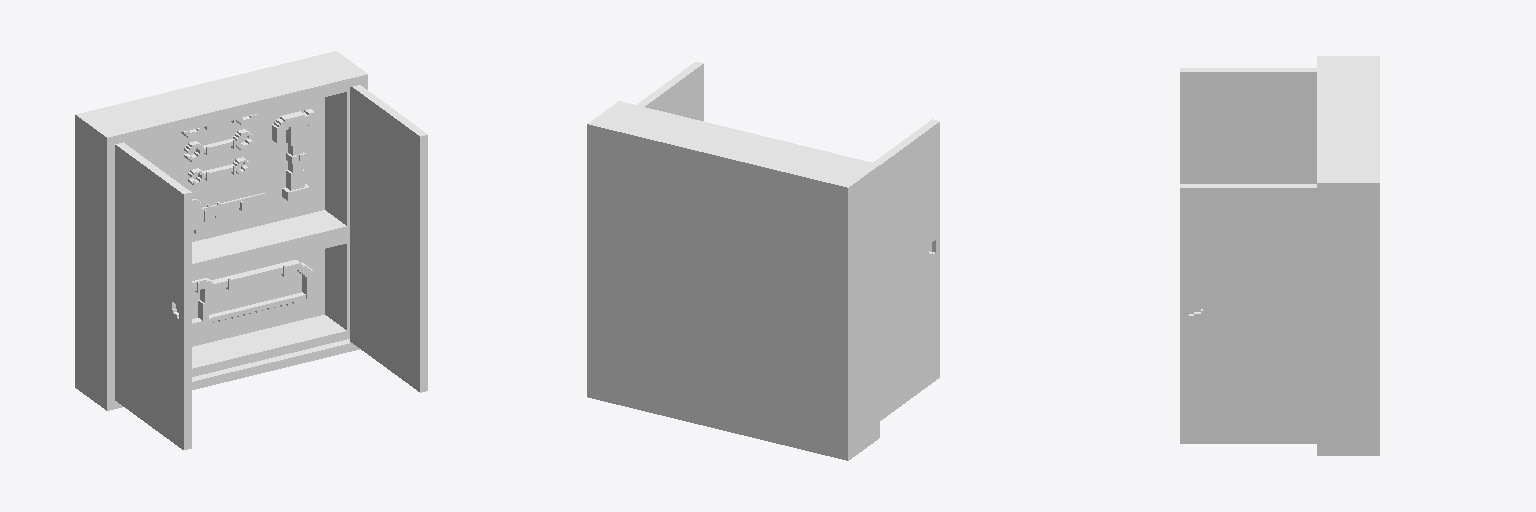
File: PrateleiraFerramentas.obj
3 renders of one model, left to right at view 1: azimuth 30°, elevation 25°; view 2: azimuth 150°, elevation 25°; view 3: azimuth 270°, elevation 25°, orthographic.
Visible parts, largest first — view 1: object 1; view 2: object 1; view 3: object 1.
Part boxes in pixels (bbox=[...]): object 1: bbox=[75, 51, 427, 449]; object 1: bbox=[587, 62, 939, 460]; object 1: bbox=[1180, 56, 1379, 455].
Bounding box in the file's own units: 12.8 × 12.8 × 8.5.